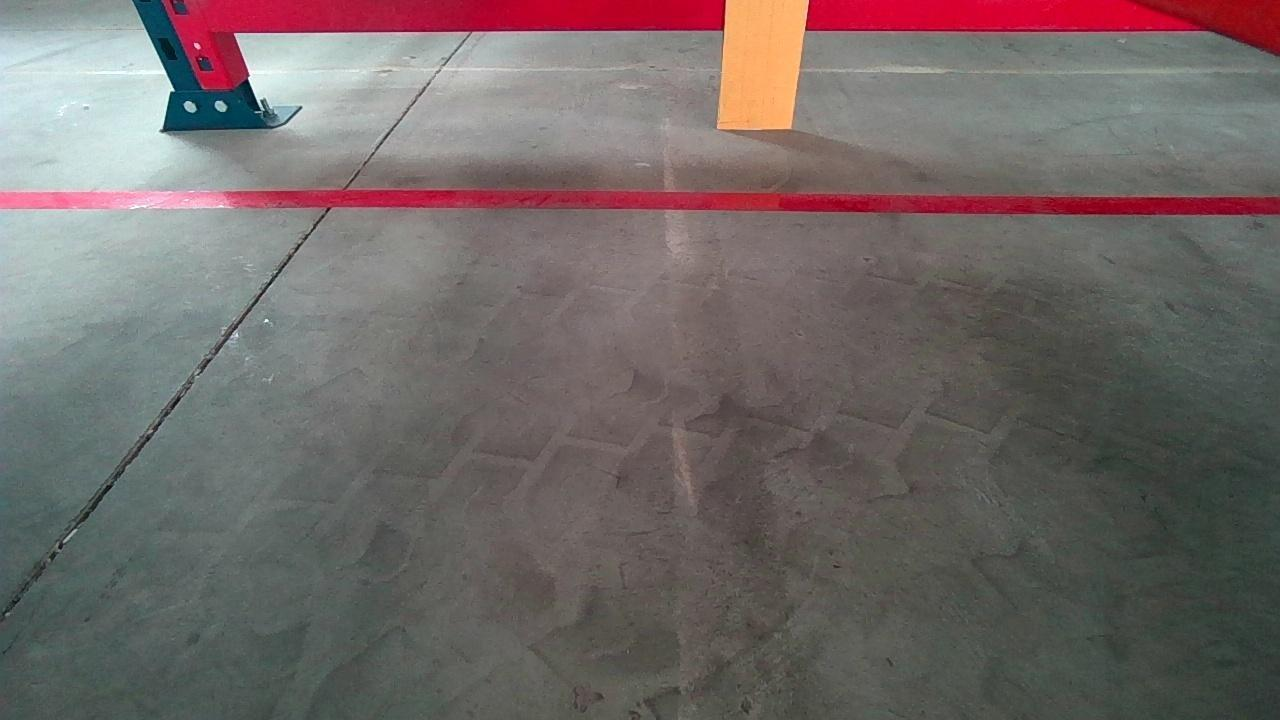h_rack: (201, 0, 1205, 31)
orange_strip: (716, 0, 806, 129)
red_line: (0, 186, 1280, 218)
